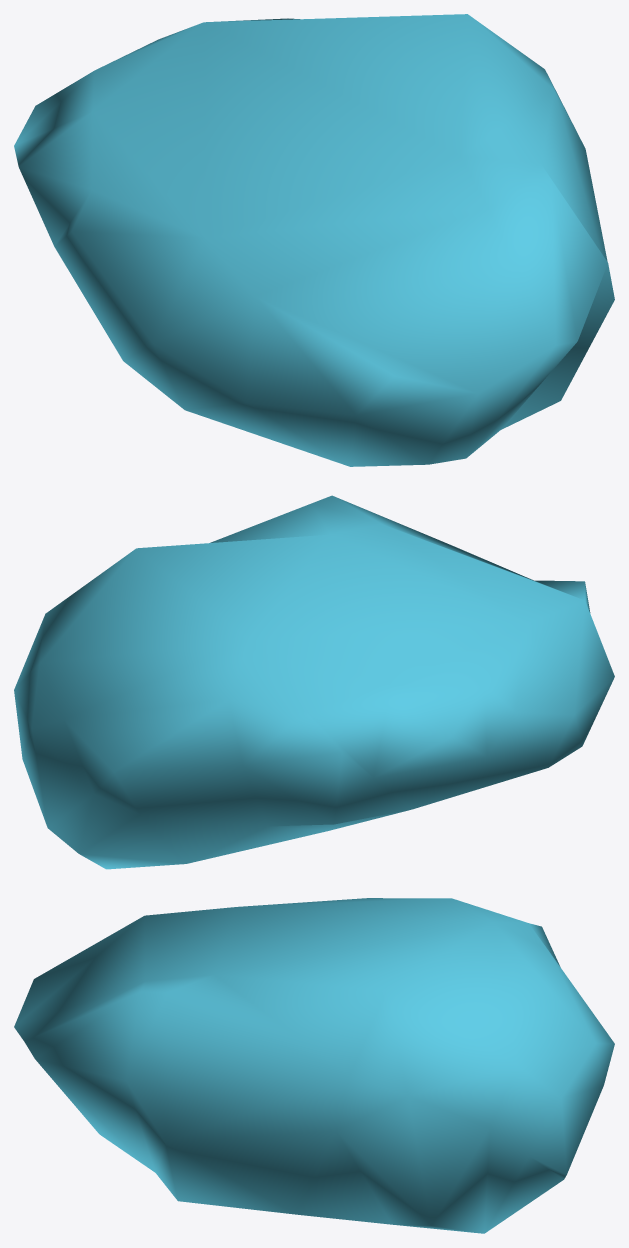
File: rock_09.FBX
3 renders of one model, top to bottom at view 1: azimuth 30°, elevation 25°; view 2: azimuth 150°, elevation 25°; view 3: azimuth 270°, elevation 25°, orthographic. The views are drawn at different scales.
Parts seen in each view (by area): view 1: rock_09; view 2: rock_09; view 3: rock_09.
Part boxes in pixels (x1,y1,x2,y2): rock_09: [14, 14, 614, 466]; rock_09: [14, 495, 614, 869]; rock_09: [14, 898, 614, 1233].
Size of the model in its own units: 30.12 by 18.05 by 38.87.
